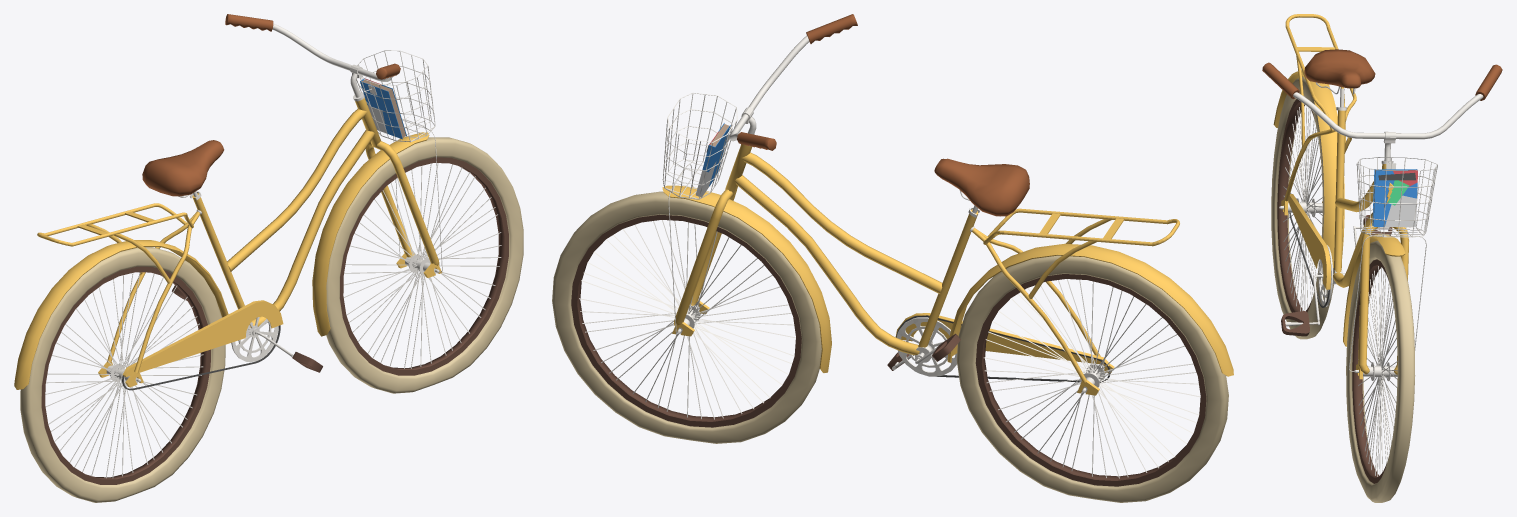
Rendered from bicycle.glb.
3 views of the same model, side by side, from view 1: azimuth 30°, elevation 25°; view 2: azimuth 150°, elevation 25°; view 3: azimuth 270°, elevation 25° (orthographic). The views are drawn at different scales.
Parts seen in each view (by area): view 1: Cylinder.018, Cylinder.017, Cylinder.019, Cylinder.001, Circle.004, Cube.005, Cylinder.010, Cylinder.007, Cylinder.020, Cylinder.015, Cube.007, Cylinder.011 (+5 smaller); view 2: Cylinder.018, Cylinder.017, Cylinder.019, Cube.005, Cylinder.001, Cylinder.010, Cylinder.007, Cylinder.015, Circle.004, Cylinder.020, Cube, Cylinder.011 (+5 smaller); view 3: Cylinder.018, Cylinder.017, Cylinder.019, Cube.007, Cylinder.015, Cube.005, Cylinder.020, Vert, Circle.004, Cylinder.005, Cylinder.001, Cylinder.013 (+22 smaller).
Part boxes in pixels (x1=…): Cylinder.018: x1=326, y1=137, x2=523, y2=393; Cylinder.017: x1=20, y1=247, x2=225, y2=502; Cylinder.019: x1=14, y1=240, x2=228, y2=389; Cylinder.001: x1=312, y1=132, x2=429, y2=336; Circle.004: x1=122, y1=300, x2=283, y2=376; Cube.005: x1=142, y1=140, x2=224, y2=196; Cylinder.010: x1=251, y1=130, x2=374, y2=326; Cylinder.007: x1=227, y1=109, x2=367, y2=271; Cylinder.020: x1=365, y1=141, x2=439, y2=268; Cylinder.015: x1=356, y1=50, x2=435, y2=142; Cube.007: x1=360, y1=78, x2=406, y2=139; Cylinder.011: x1=107, y1=211, x2=200, y2=373; Cylinder.018: x1=552, y1=191, x2=821, y2=443; Cylinder.017: x1=956, y1=255, x2=1228, y2=502; Cylinder.019: x1=947, y1=243, x2=1233, y2=376; Cube.005: x1=934, y1=158, x2=1029, y2=216; Cylinder.001: x1=662, y1=185, x2=831, y2=372; Cylinder.010: x1=735, y1=175, x2=919, y2=355; Cylinder.007: x1=742, y1=152, x2=942, y2=293; Cylinder.015: x1=662, y1=92, x2=737, y2=199; Circle.004: x1=895, y1=313, x2=1109, y2=366; Cylinder.020: x1=674, y1=189, x2=736, y2=327; Cube: x1=983, y1=208, x2=1179, y2=246; Cylinder.011: x1=972, y1=228, x2=1100, y2=383; Cylinder.018: x1=1346, y1=240, x2=1415, y2=502; Cylinder.017: x1=1271, y1=77, x2=1333, y2=339; Cylinder.019: x1=1273, y1=70, x2=1344, y2=267; Cube.007: x1=1372, y1=169, x2=1417, y2=226; Cylinder.015: x1=1356, y1=157, x2=1437, y2=237; Cube.005: x1=1304, y1=49, x2=1375, y2=88; Cylinder.020: x1=1358, y1=222, x2=1408, y2=374; Vert: x1=1293, y1=92, x2=1483, y2=139; Circle.004: x1=1288, y1=194, x2=1331, y2=289; Cylinder.005: x1=1334, y1=110, x2=1345, y2=272; Cylinder.001: x1=1343, y1=233, x2=1405, y2=346; Cylinder.013: x1=1262, y1=62, x2=1502, y2=100.
Bounding box in the file's own units: 497 × 317 × 183.
